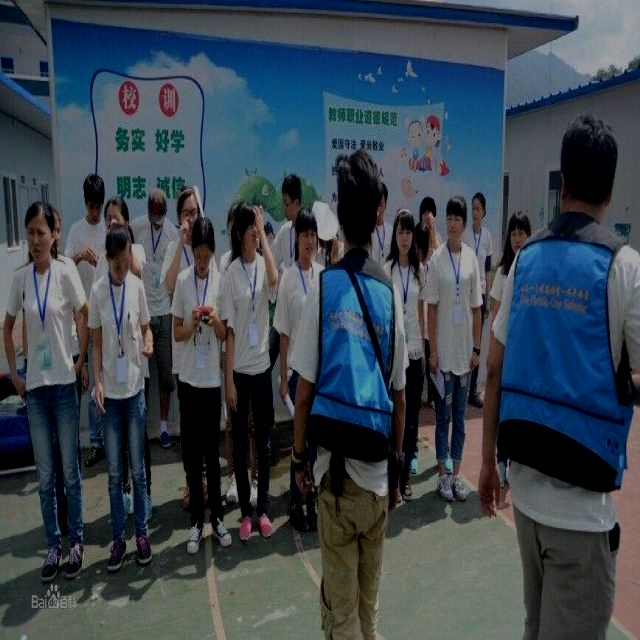Sin_Casco_Mascarrilla: (560, 109, 619, 226), (337, 150, 383, 250), (21, 201, 55, 264)
